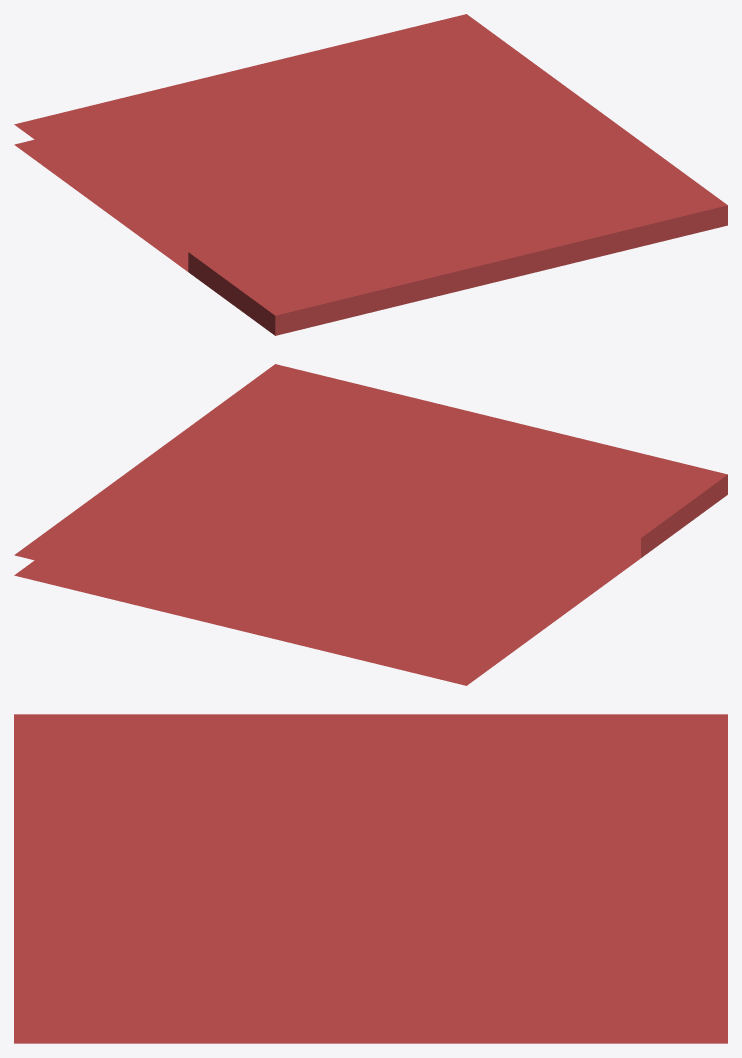
Rendered from sujung_2f_floor.FBX.
The picture shows the model from 3 angles, top to bottom: view 1: azimuth 30°, elevation 25°; view 2: azimuth 150°, elevation 25°; view 3: azimuth 270°, elevation 25°; orthographic projection. The views are drawn at different scales.
Parts seen in each view (by area): view 1: 2f_floor_sujung; view 2: 2f_floor_sujung; view 3: 2f_floor_sujung.
Part boxes in pixels (x1=…): 2f_floor_sujung: x1=14, y1=14, x2=727, y2=335; 2f_floor_sujung: x1=14, y1=364, x2=727, y2=685; 2f_floor_sujung: x1=14, y1=714, x2=727, y2=1043.
Bounding box in the file's own units: 645 × 27.5 × 645.
